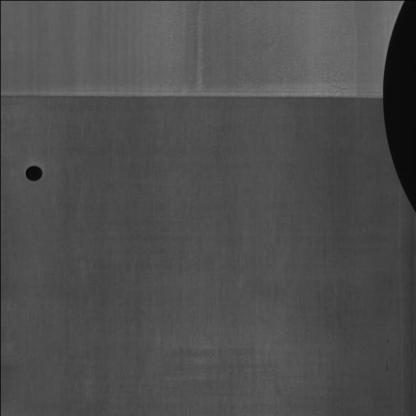punching_hole: (22, 157, 46, 186)
welding_line: (0, 85, 388, 111)
